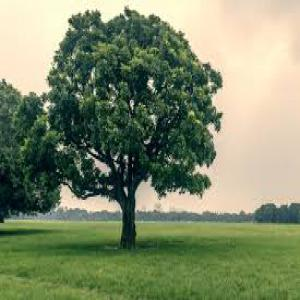Tree: (41, 3, 222, 246)
